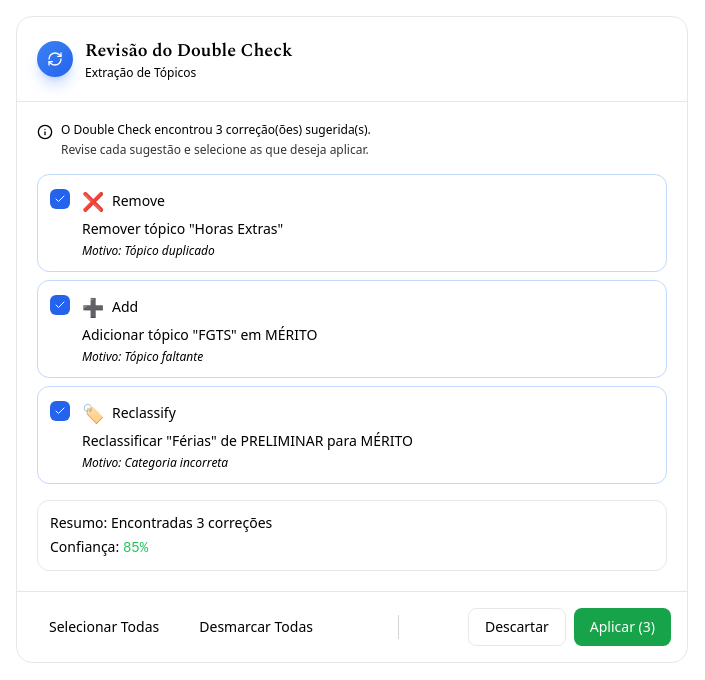
Test case: DoubleCheckReviewModal › Seleção de correções › "Desmarcar Todas" desmarca todas as correções
Click the button "Desmarcar Todas": {"x": 256, "y": 626} left=183, top=608, right=329, bottom=644
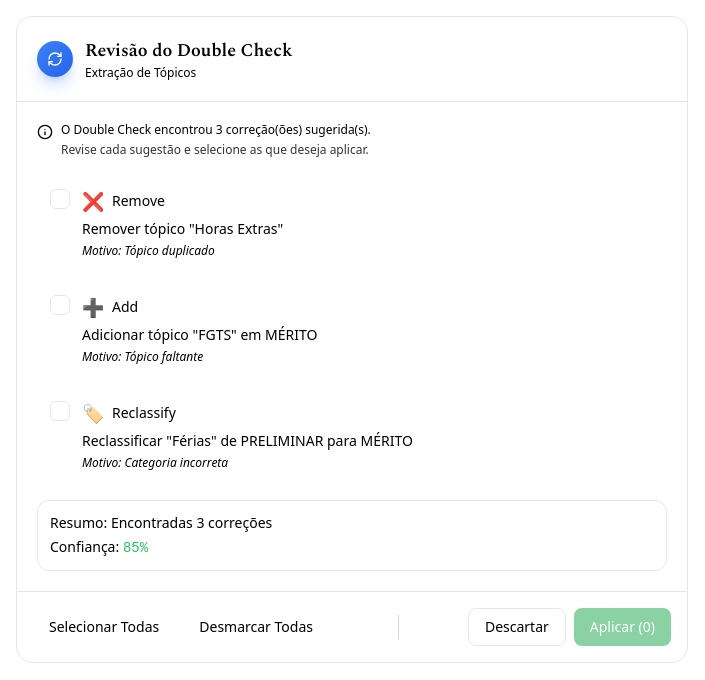
Now the button "Aplicar (0)" is shown, box left=574, top=608, right=671, bottom=646
